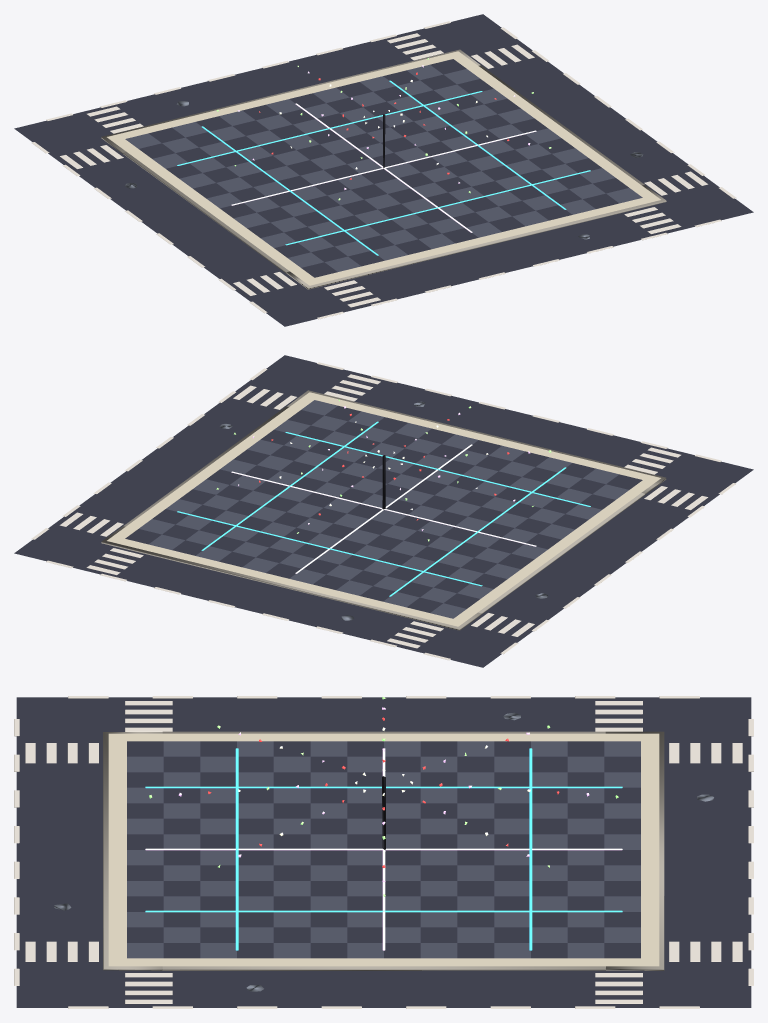
Rendered from tile_neon.glb.
3 views of the same model, one above another, from view 1: azimuth 30°, elevation 25°; view 2: azimuth 150°, elevation 25°; view 3: azimuth 270°, elevation 25° (orthographic). The views are drawn at different scales.
Visible parts, largest first — view 1: tile_neon; view 2: tile_neon; view 3: tile_neon.
Boxes of the visible parts, <box> form: tile_neon: <box>14,14,753,326</box>; tile_neon: <box>14,355,753,667</box>; tile_neon: <box>14,696,753,1008</box>.
Bounding box in the file's own units: 40.3 × 4.55 × 40.3.
1 material, 1 textured.
